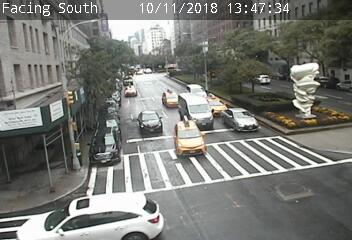car: (178, 93, 213, 130), (174, 120, 206, 157), (90, 128, 120, 164), (221, 108, 258, 133), (138, 111, 162, 135), (203, 95, 227, 116), (185, 84, 207, 101), (162, 91, 180, 108), (251, 74, 271, 85), (125, 85, 137, 97)
